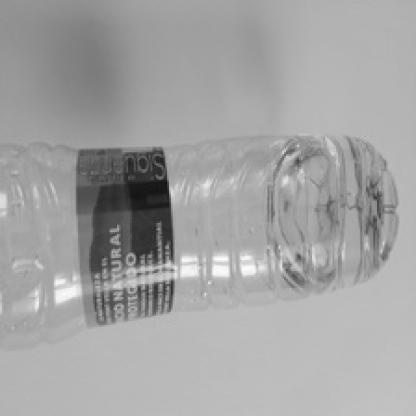plastic_bottles: (0, 134, 399, 354)
